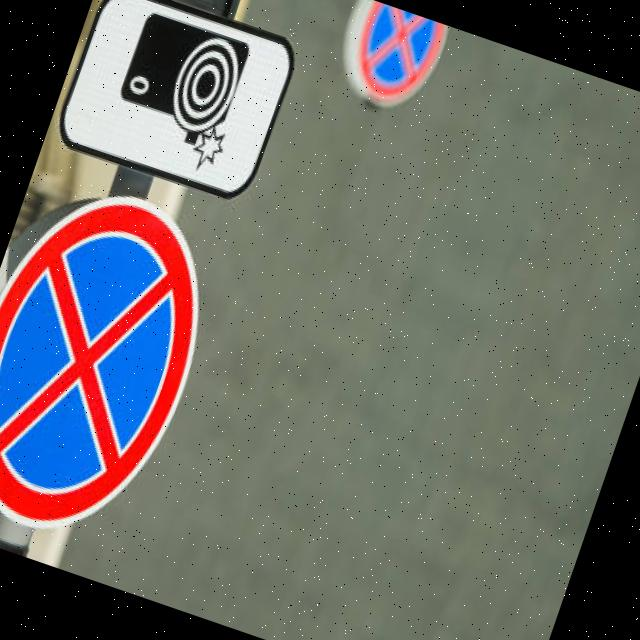no_parking: (0, 166, 237, 557), (328, 0, 451, 125)
